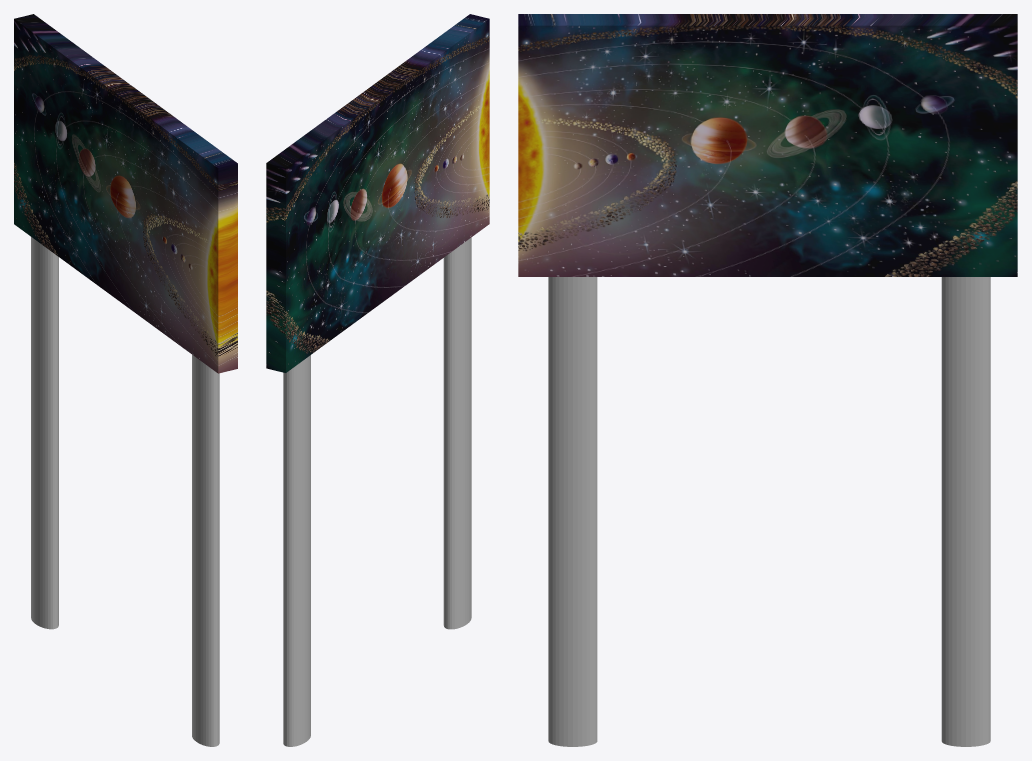
File: backboard.obj
3 views of the same model, side by side, from view 1: azimuth 30°, elevation 25°; view 2: azimuth 150°, elevation 25°; view 3: azimuth 270°, elevation 25° (orthographic). The views are drawn at different scales.
Parts seen in each view (by area): view 1: Cube_Cube.001, Cylinder.002_Cylinder.003, Cylinder; view 2: Cube_Cube.001, Cylinder, Cylinder.002_Cylinder.003; view 3: Cube_Cube.001, Cylinder, Cylinder.002_Cylinder.003.
Part boxes in pixels (x1,y1,x2,y2): Cube_Cube.001: (14, 14, 237, 373); Cylinder.002_Cylinder.003: (31, 237, 58, 629); Cylinder: (192, 355, 219, 746); Cube_Cube.001: (266, 14, 489, 372); Cylinder: (443, 237, 471, 629); Cylinder.002_Cylinder.003: (283, 355, 310, 746); Cube_Cube.001: (518, 14, 1017, 276); Cylinder: (548, 277, 597, 746); Cylinder.002_Cylinder.003: (941, 277, 990, 746).
Size of the model in its own units: 1.2 by 34.46 by 21.61.
2 materials, 1 textured.
